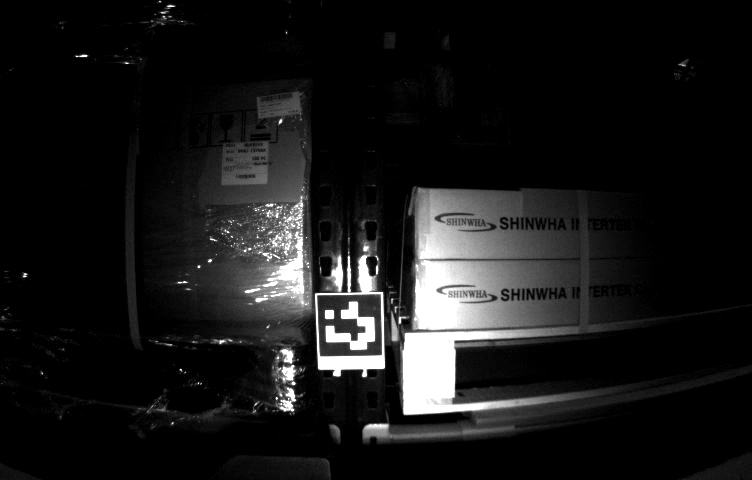True Barcode: (223, 142, 269, 185)
